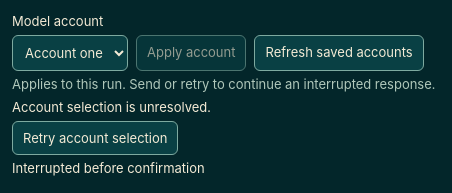
Test: permits a fresh explicit account choice after an authoritative unconfirmed outcome
Select "Account two" in the dropdown at (70, 53), box left=12, top=35, right=128, bottom=71
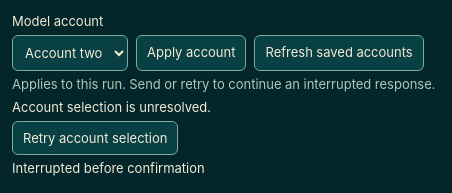
Expected: the button "Apply account" is enabled, left=136, top=35, right=246, bottom=71
